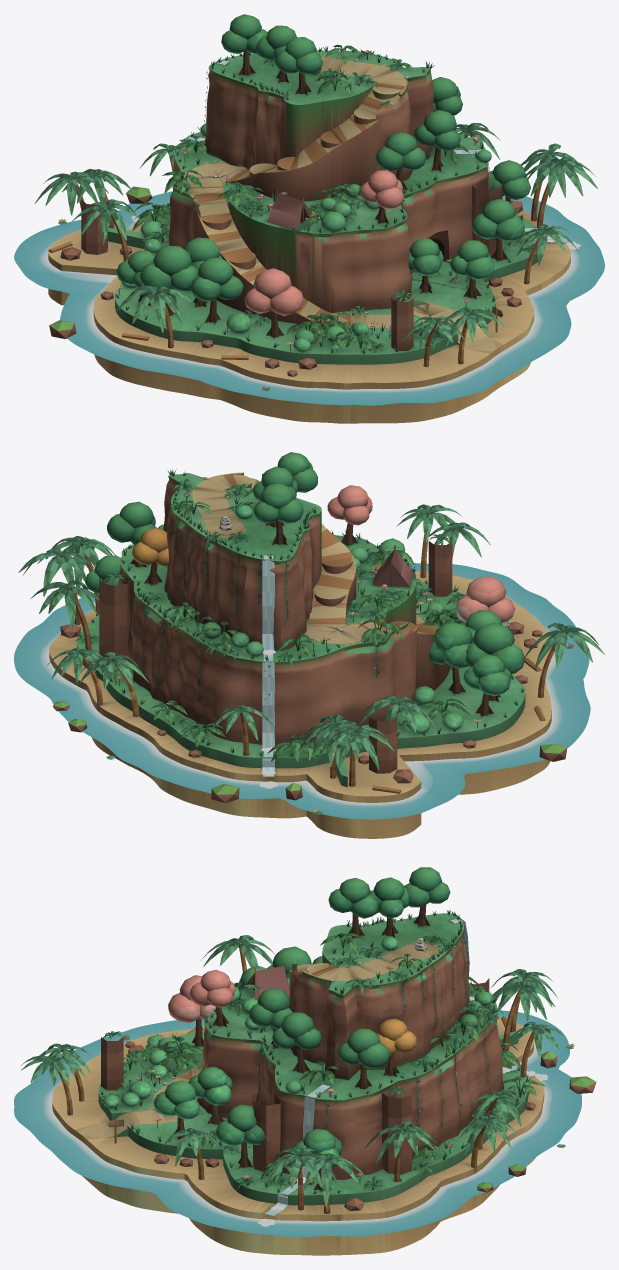
The model's file is JungleIsland.glb.
3 renders of one model, top to bottom at view 1: azimuth 30°, elevation 25°; view 2: azimuth 150°, elevation 25°; view 3: azimuth 270°, elevation 25°, orthographic. The views are drawn at different scales.
Parts seen in each view (by area): view 1: Lit, Soft, Unlit; view 2: Lit, Unlit, Soft; view 3: Lit, Unlit, Soft.
Boxes of the visible parts, left/top/right/bottom form: Lit: left=34, top=44, right=597, bottom=423; Soft: left=116, top=14, right=530, bottom=351; Unlit: left=14, top=59, right=604, bottom=405; Lit: left=18, top=469, right=604, bottom=838; Unlit: left=14, top=555, right=590, bottom=819; Soft: left=85, top=452, right=525, bottom=747; Lit: left=21, top=905, right=596, bottom=1255; Unlit: left=14, top=918, right=581, bottom=1237; Soft: left=103, top=867, right=492, bottom=1168.
Size of the model in its own units: 6.77 by 3.23 by 6.46.
